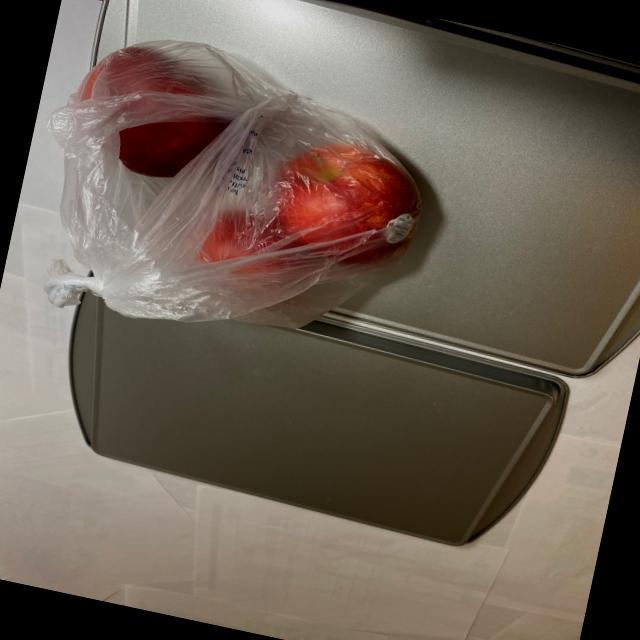apple: (41, 12, 446, 330)
